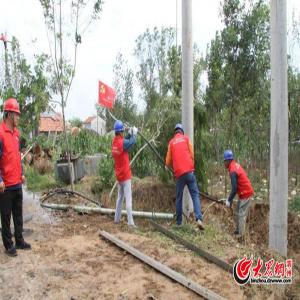blue: (223, 149, 235, 171), (114, 120, 126, 138), (175, 121, 186, 138)
red: (5, 97, 21, 130)
